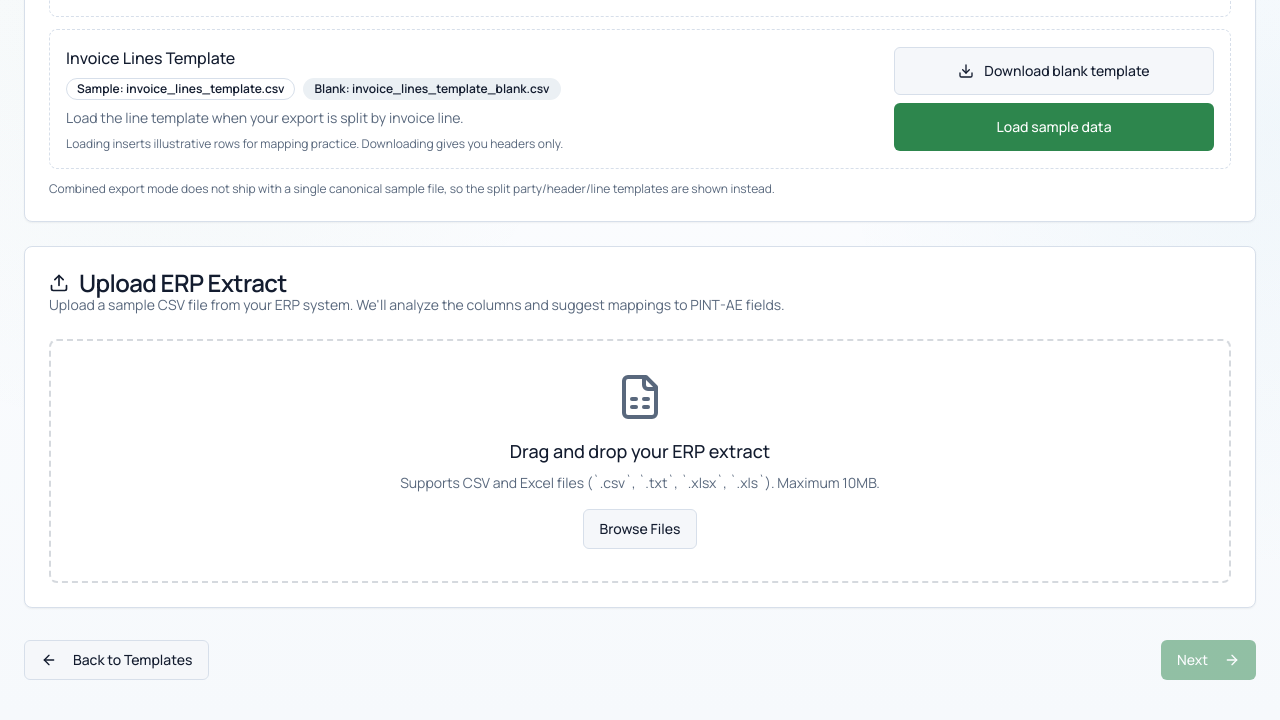
it: MappingPage navigation › returns to the templates tab when Back is clicked on the first wizard step
(page scrolled)
Check: the text "Upload ERP Extract" is shown, box [49, 266, 287, 298]
Click the button "Back to Templates": click(117, 660) [24, 640, 209, 680]
(page scrolled)
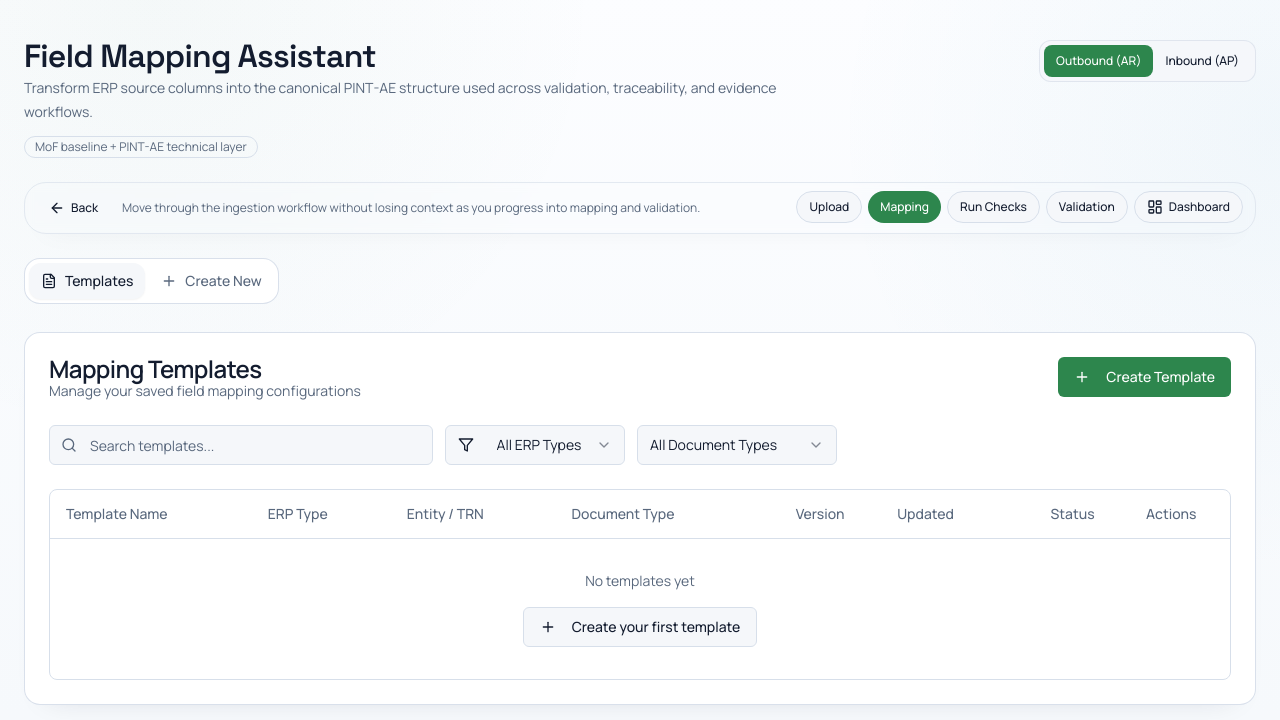
Check: the text "Upload ERP Extract" is gone
